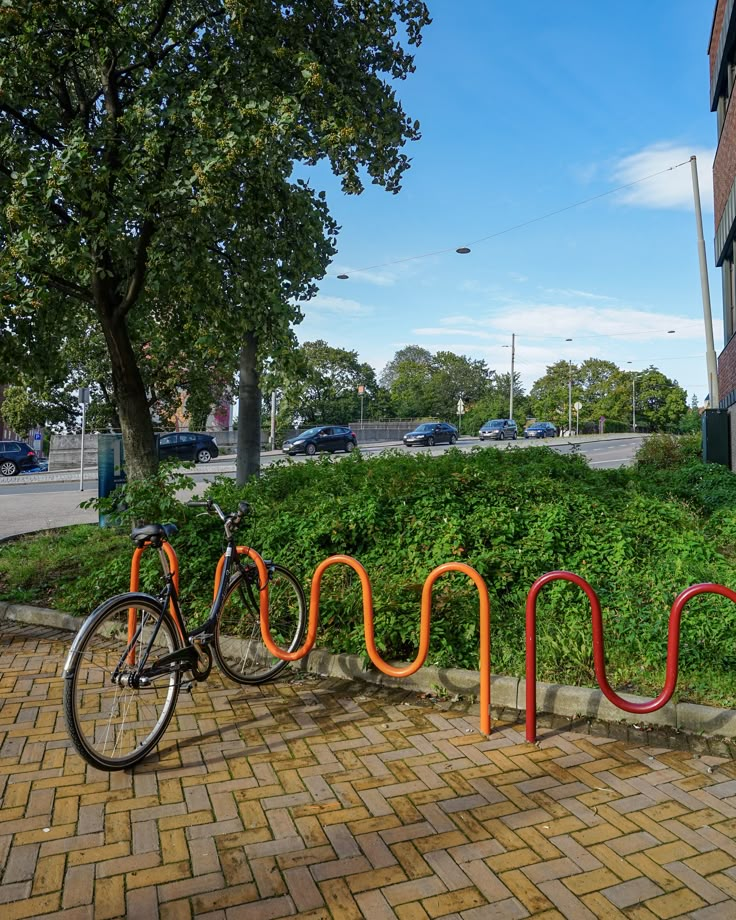Bicycle: (40, 514, 343, 768)
Car: (279, 420, 377, 454), (405, 420, 457, 445), (521, 419, 562, 439), (475, 418, 518, 437)
Tree: (9, 11, 254, 529)
